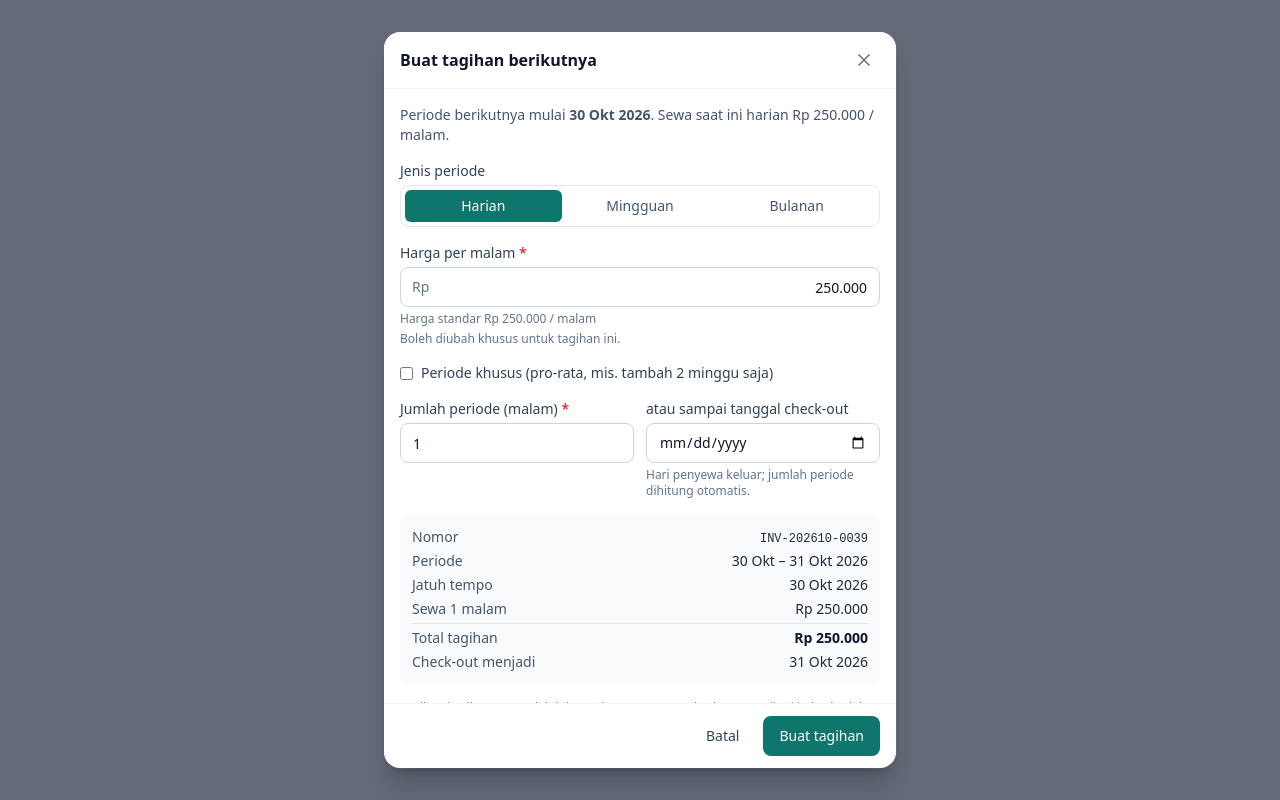
Scenario: Buat tagihan berikutnya: deposit when a stay switches to weekly or monthly › a deposit agreed but not paid yet: on the lease, no payment, and the toast says so
This screenshot has width=1280, height=800.
Click the 2nd radio button labelled "Bulanan".
click(797, 206)  # box [718,190,875,222]
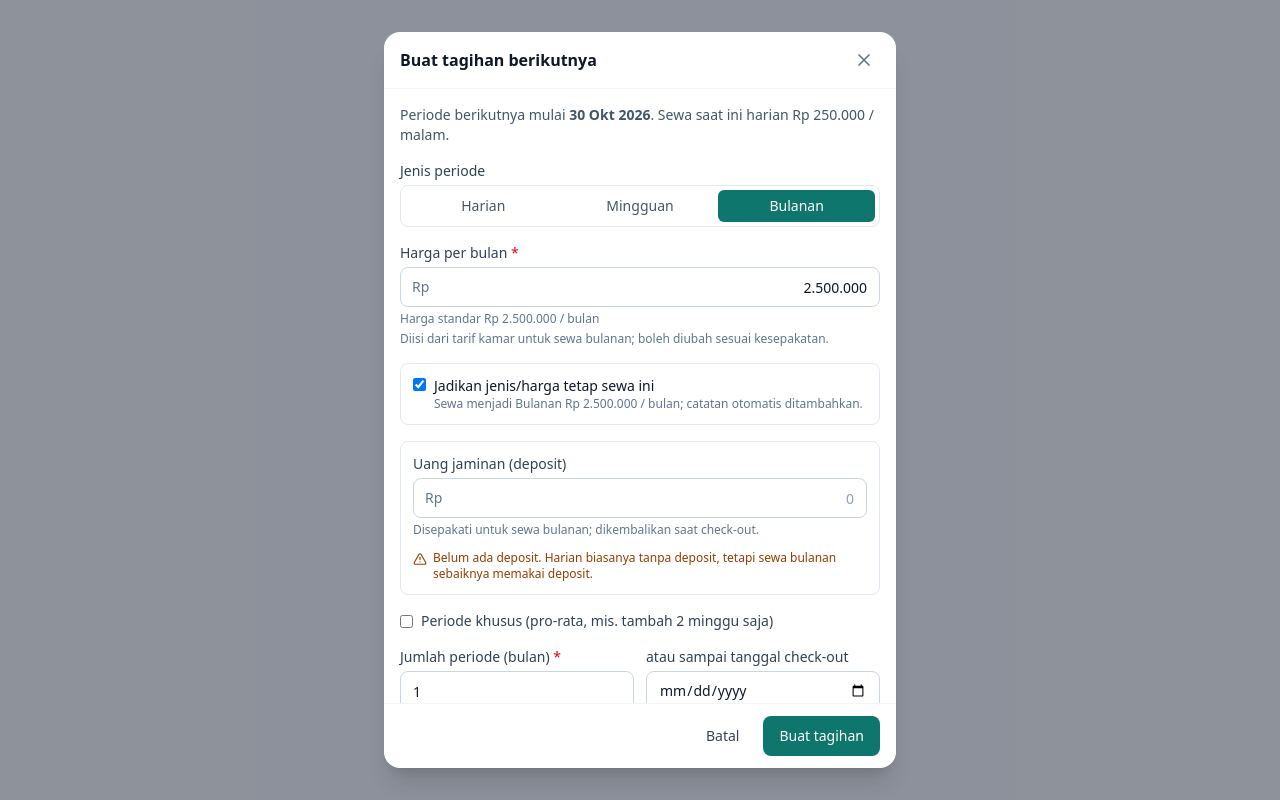
Type "500000" into the field labelled "Uang jaminan (deposit)".
click(640, 498); type("500000")  # box [413,478,867,518]
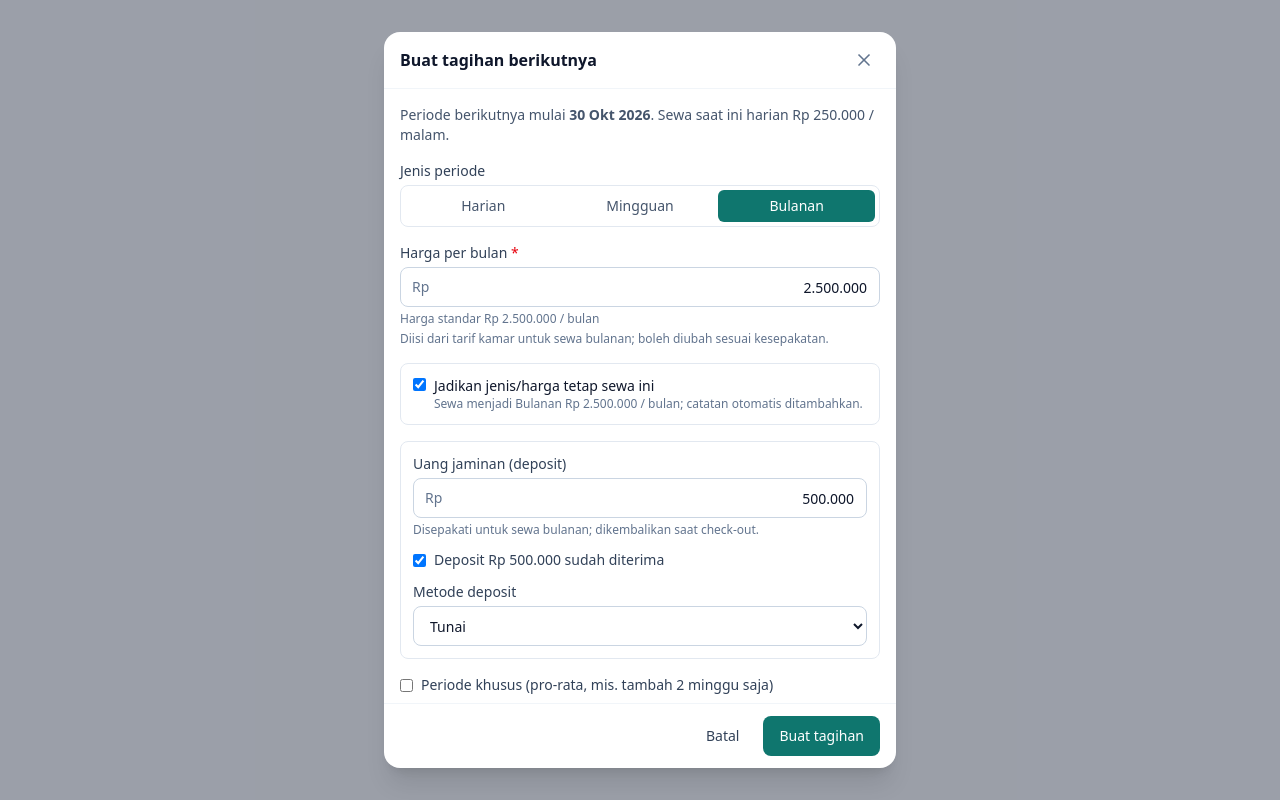
Click the checkbox labelled "Deposit Rp 500.000 sudah diterima".
click(420, 560)  # box [413,554,426,566]
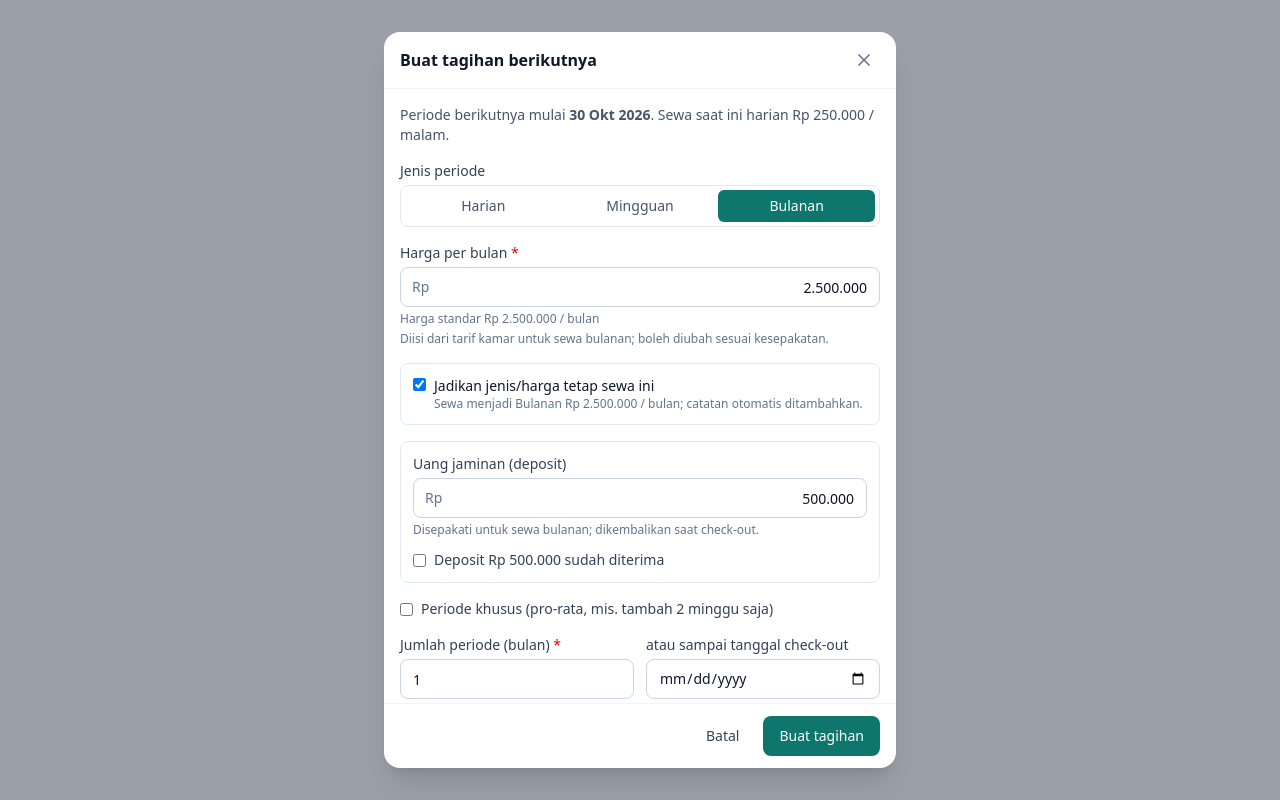
Expected: the label labelled "Metode deposit" is gone
Click the button "Buat tagihan".
click(822, 736)  # box [763,716,880,756]
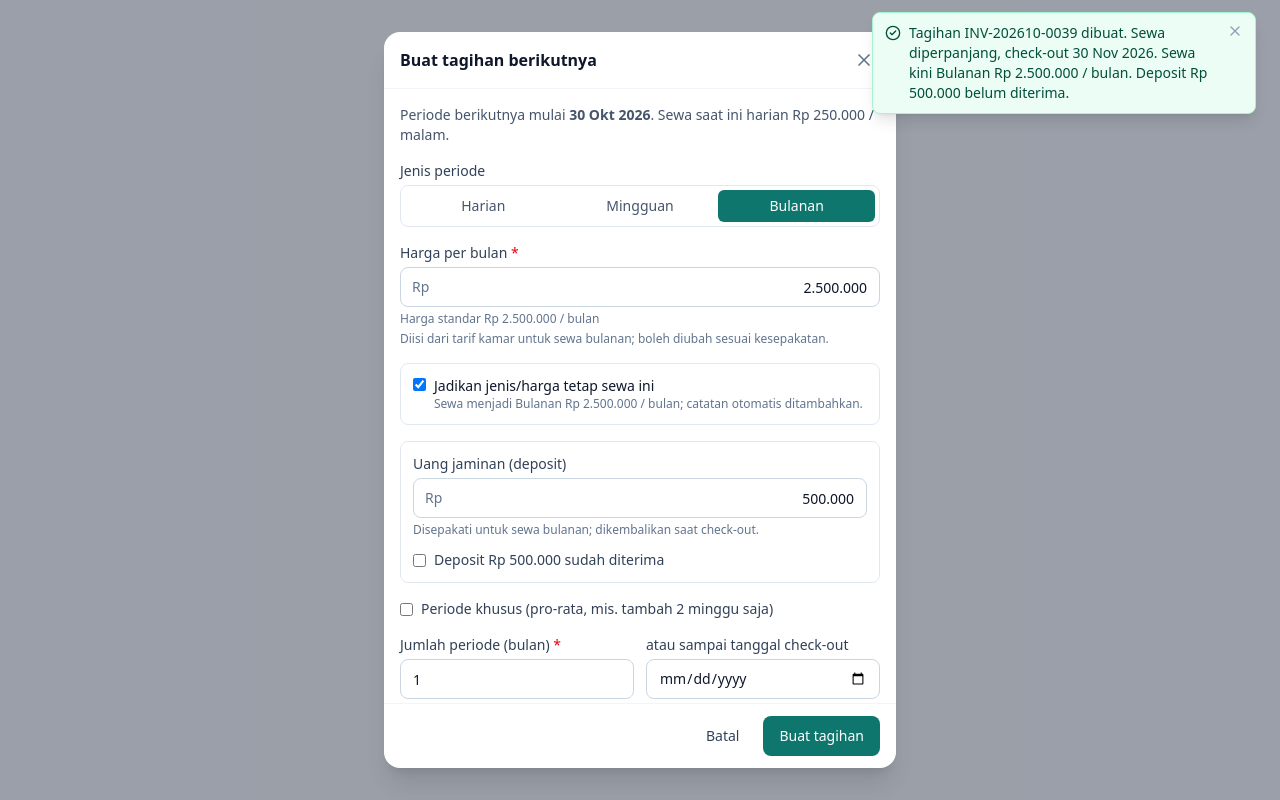
Expected: the text "Deposit Rp 500.000 belum diterima." is shown, [909,23,1207,102]
